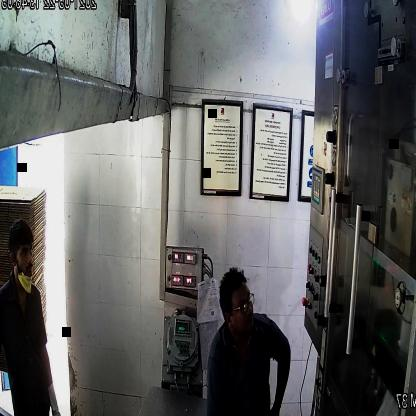goggles: (224, 290, 257, 318)
no_goggles: (12, 242, 36, 262)
